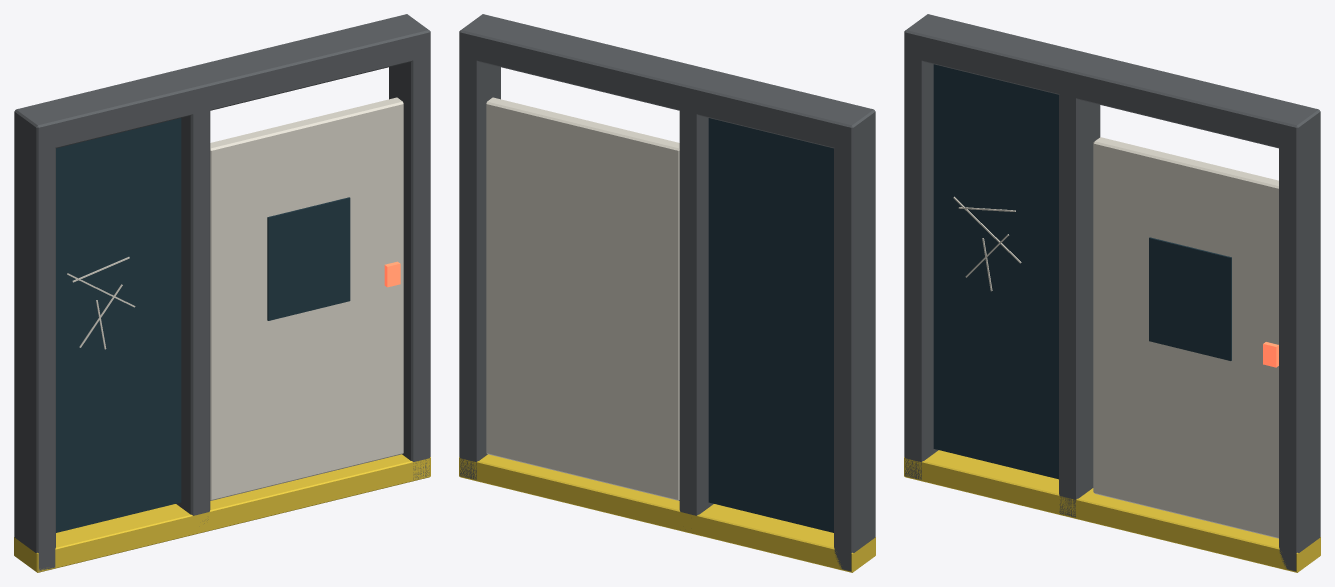
The model's file is containment_cell.glb.
3 views of the same model, side by side, from view 1: azimuth 30°, elevation 25°; view 2: azimuth 150°, elevation 25°; view 3: azimuth 330°, elevation 25° (orthographic).
Parts seen in each view (by area): view 1: containment_cell; view 2: containment_cell; view 3: containment_cell.
Boxes of the visible parts, left/top/right/bottom form: containment_cell: left=14, top=14, right=430, bottom=572; containment_cell: left=459, top=14, right=875, bottom=572; containment_cell: left=904, top=14, right=1320, bottom=572.
Bounding box in the file's own units: 2.4 × 2.6 × 0.25.
